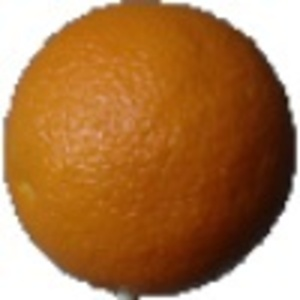laranja: (5, 3, 296, 296)
